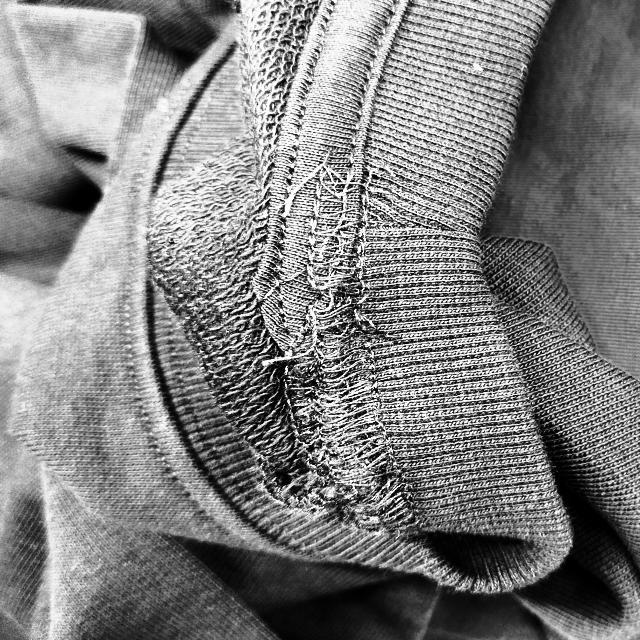Sewing_error: (263, 123, 364, 396)
